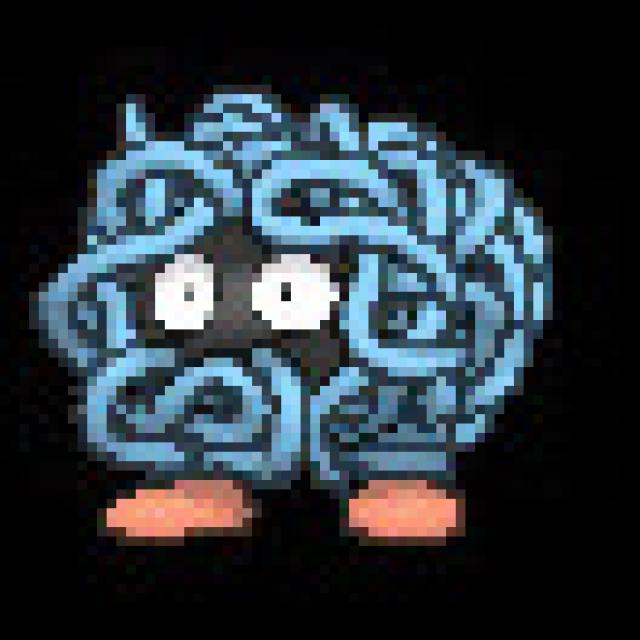Tangela: (61, 84, 526, 541)
